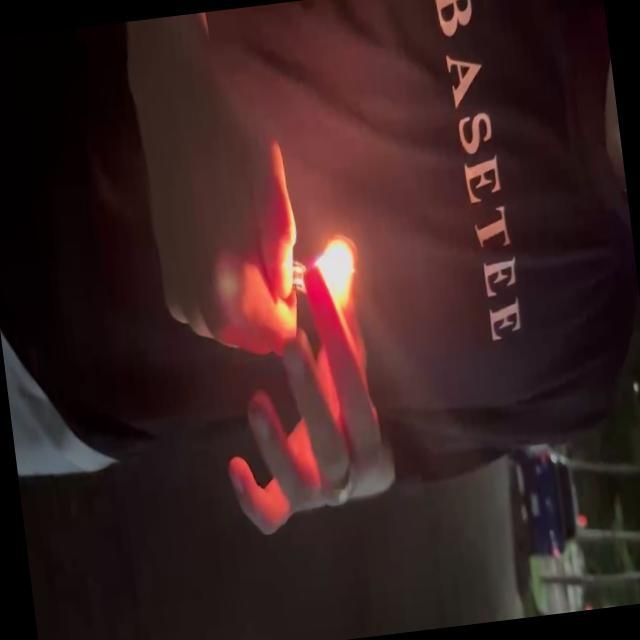Fire: (317, 254, 346, 289)
